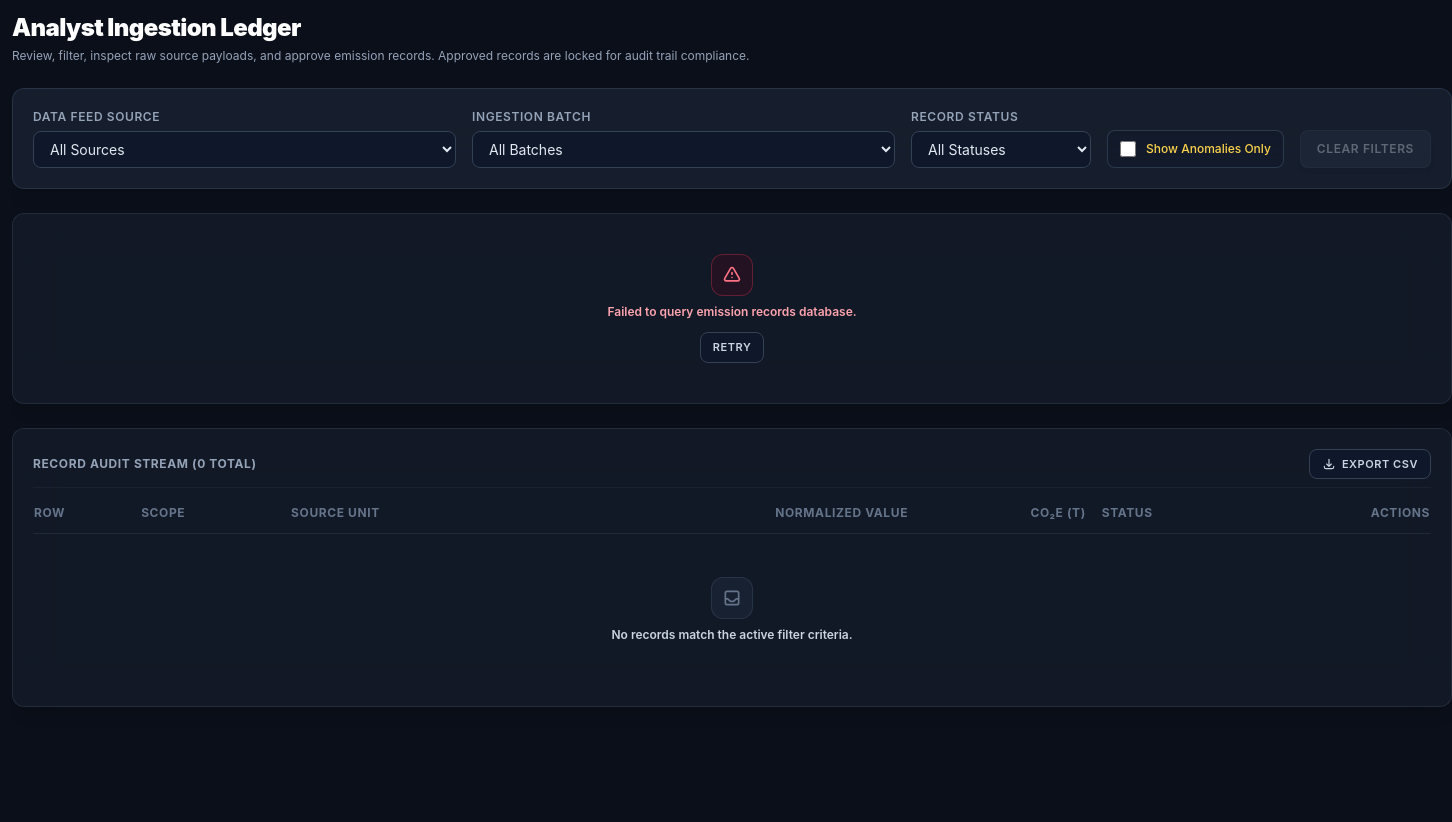
Test case: RecordsPage › shows an error message with a retry action if fetching records fails
Expected: the text "Failed to query emission records database." is shown, x1=607 y1=304 x2=856 y2=320
Click the button "Retry" at (732, 347), box x1=700 y1=332 x2=764 y2=362
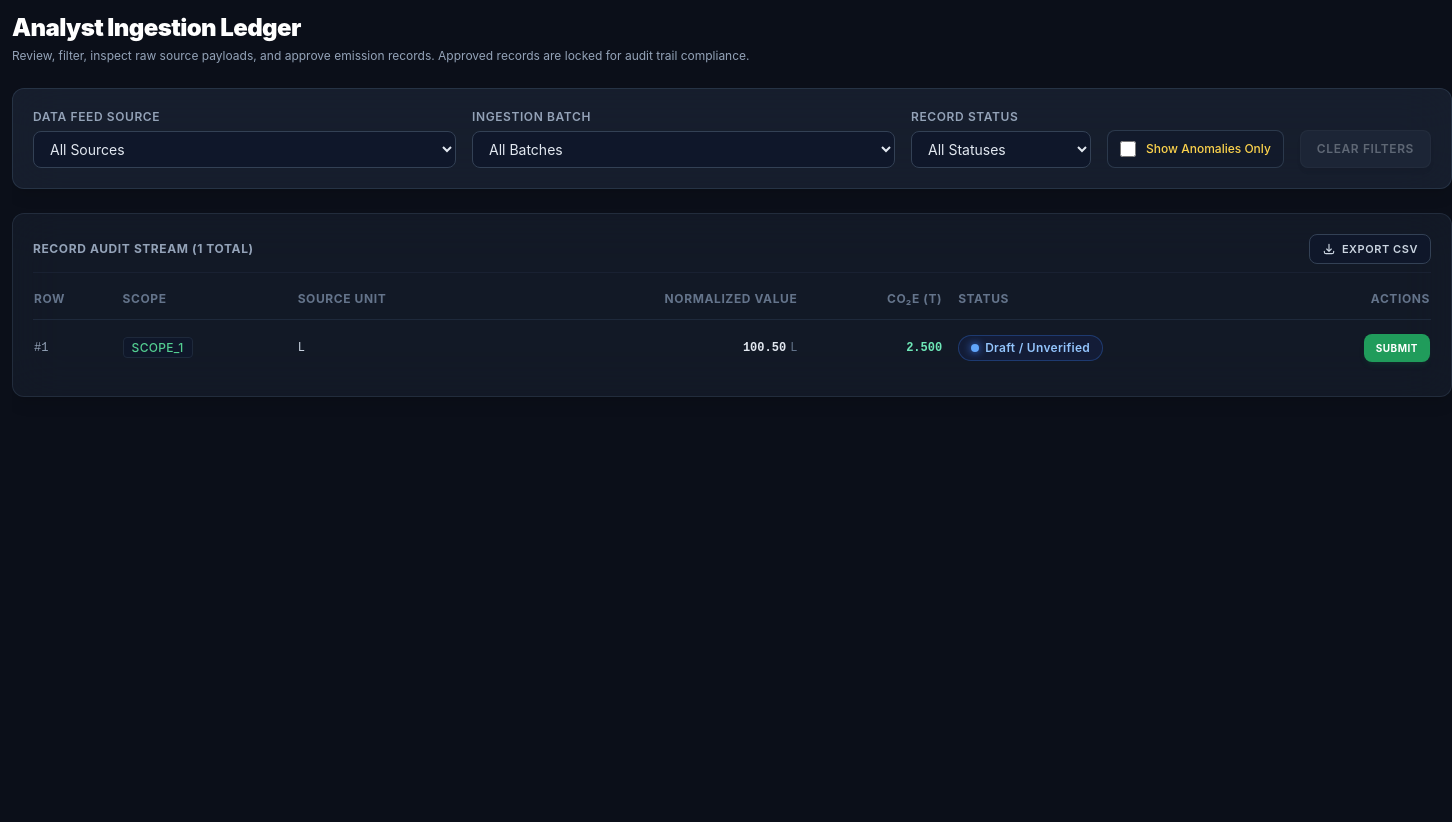
Now the text "SCOPE_1" is shown, box x1=123 y1=336 x2=193 y2=358
